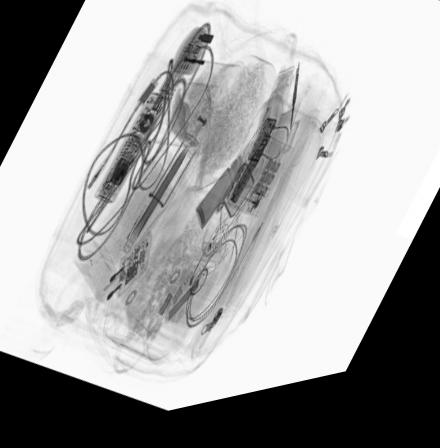Lighter: (224, 194, 265, 229)
